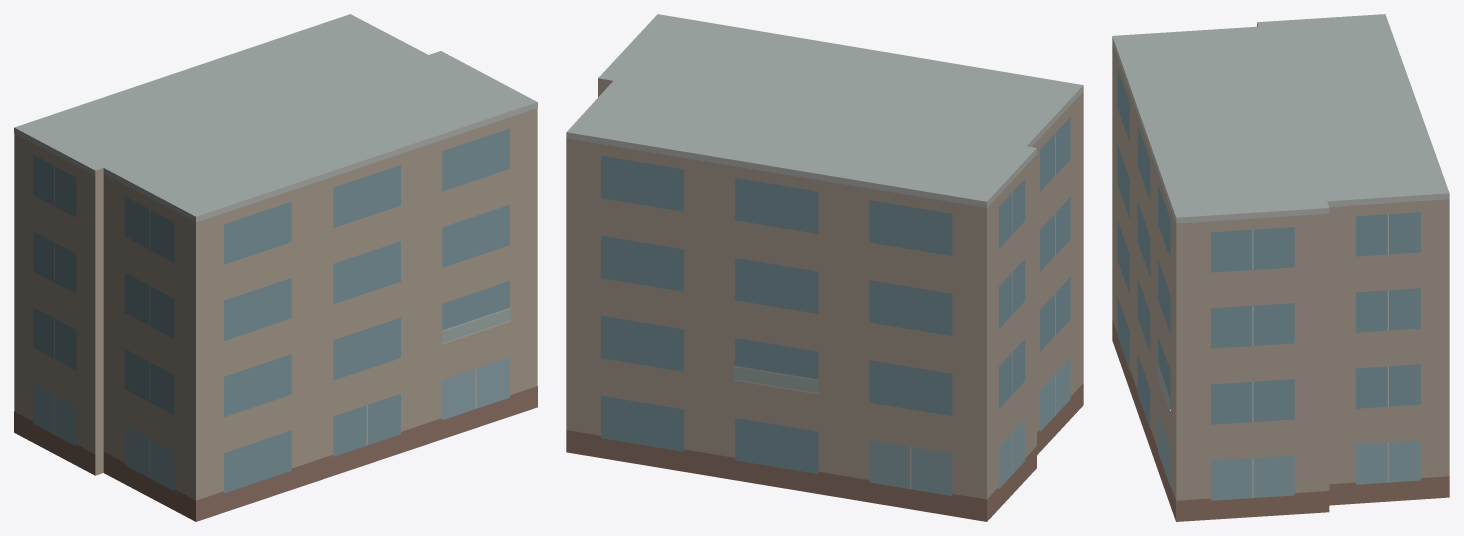
File: survey-upis-32974788.glb
3 views of the same model, side by side, from view 1: azimuth 30°, elevation 25°; view 2: azimuth 150°, elevation 25°; view 3: azimuth 270°, elevation 25° (orthographic). The views are drawn at different scales.
Visible parts, largest first — view 1: survey-upis-32974788.tmp; view 2: survey-upis-32974788.tmp; view 3: survey-upis-32974788.tmp.
Boxes of the visible parts, <box> form: survey-upis-32974788.tmp: <box>14,14,537,521</box>; survey-upis-32974788.tmp: <box>566,14,1083,521</box>; survey-upis-32974788.tmp: <box>1112,14,1449,521</box>.
Size of the model in its own units: 18.34 by 12.76 by 12.84.
